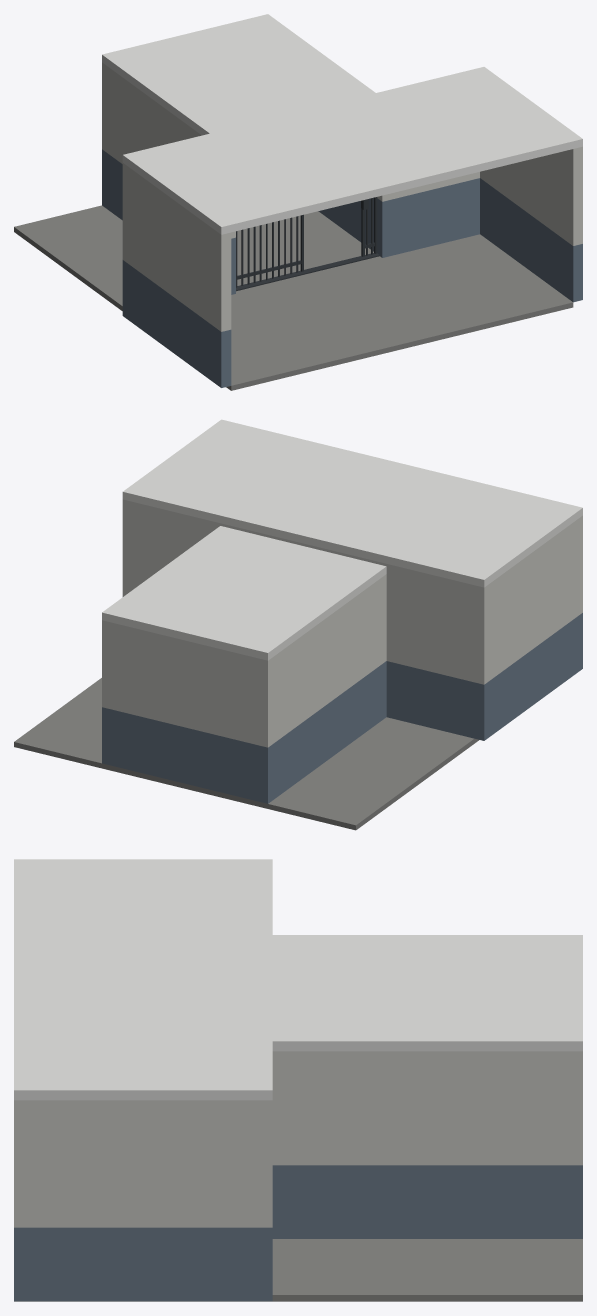
Rendered from Hucre.fbx.
3 views of the same model, one above another, from view 1: azimuth 30°, elevation 25°; view 2: azimuth 150°, elevation 25°; view 3: azimuth 270°, elevation 25° (orthographic). The views are drawn at different scales.
Visible parts, largest first — view 1: Hucre_Tavan, Hucre_Duvarlar, Hucre_Zemin, Parmaklik_Sabit; view 2: Hucre_Duvarlar, Hucre_Tavan, Hucre_Zemin; view 3: Hucre_Duvarlar, Hucre_Tavan, Hucre_Zemin.
Boxes of the visible parts, x1,y1,x2,y2 form: Hucre_Tavan: [102, 14, 582, 234]; Hucre_Duvarlar: [102, 62, 582, 387]; Hucre_Zemin: [14, 205, 573, 390]; Parmaklik_Sabit: [236, 197, 379, 291]; Hucre_Duvarlar: [102, 499, 582, 803]; Hucre_Tavan: [102, 419, 582, 660]; Hucre_Zemin: [14, 678, 478, 830]; Hucre_Duvarlar: [14, 1051, 582, 1301]; Hucre_Tavan: [14, 859, 582, 1100]; Hucre_Zemin: [14, 1239, 582, 1301].
Size of the model in its own units: 7.4 by 3.25 by 7.7.
